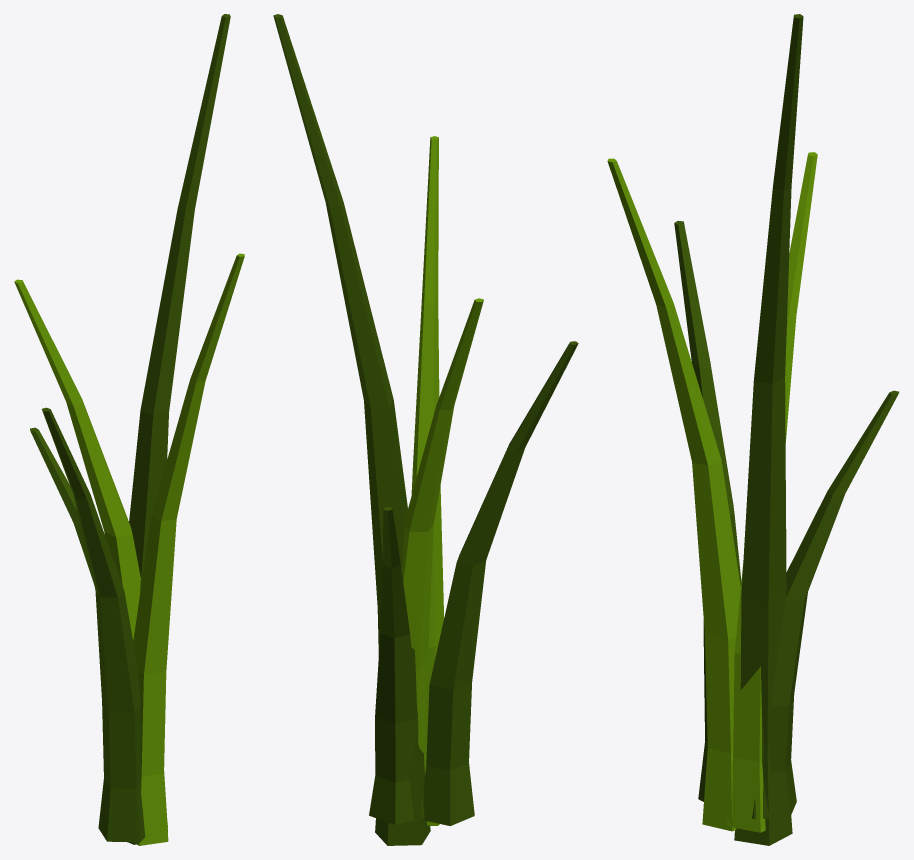
The model's file is FIL_ZenGargen_Grass_01.fbx.
The picture shows the model from 3 angles, left to right: view 1: azimuth 30°, elevation 25°; view 2: azimuth 150°, elevation 25°; view 3: azimuth 270°, elevation 25°; orthographic projection. The views are drawn at different scales.
Visible parts, largest first — view 1: polySurface5; view 2: polySurface5; view 3: polySurface5.
Boxes of the visible parts, <box> form: polySurface5: <box>14,14,244,845</box>; polySurface5: <box>273,14,578,845</box>; polySurface5: <box>607,14,899,845</box>.
Bounding box in the file's own units: 4.2 × 12.99 × 3.93.
